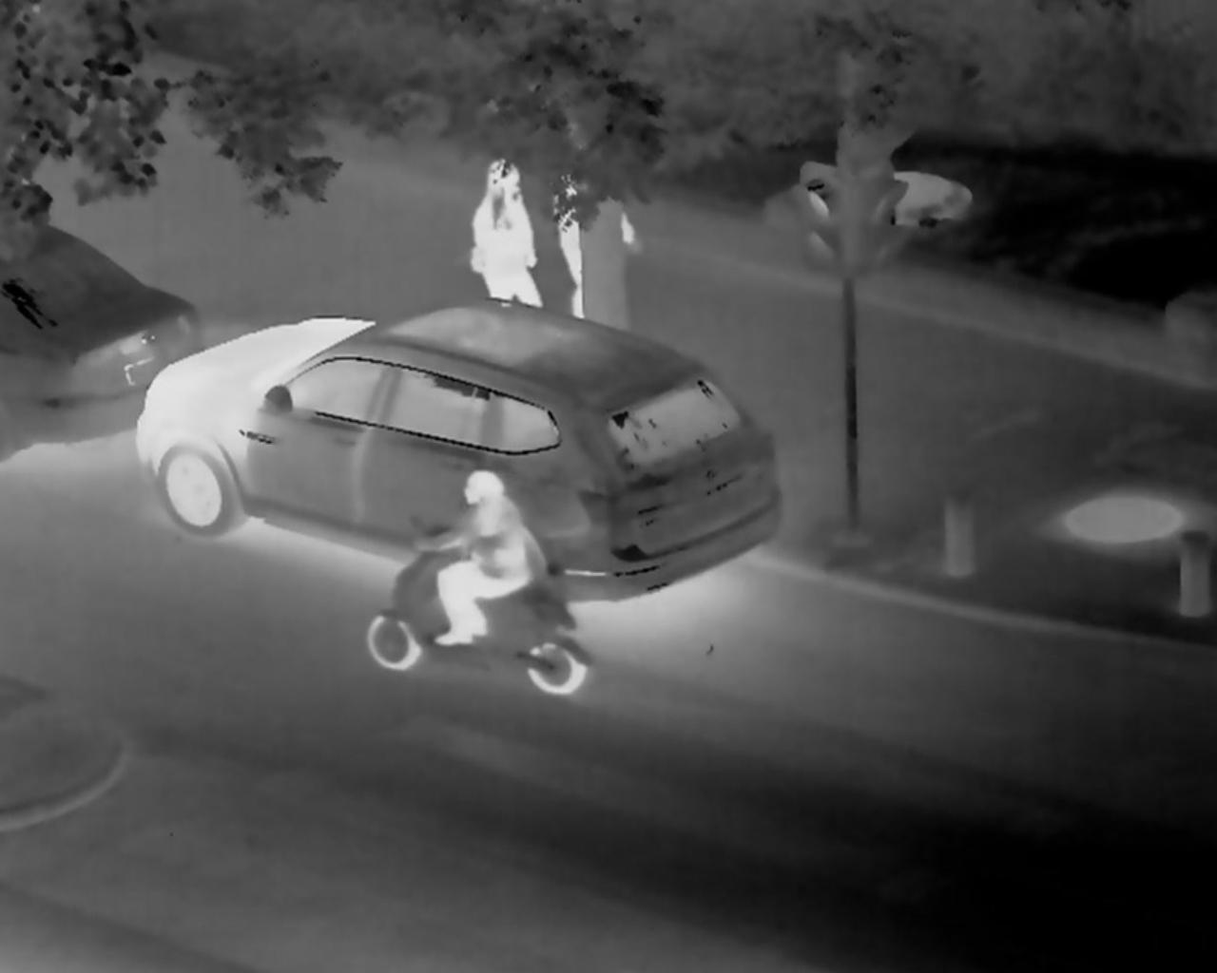person: (410, 469, 536, 648), (558, 165, 636, 323), (466, 158, 544, 312)
